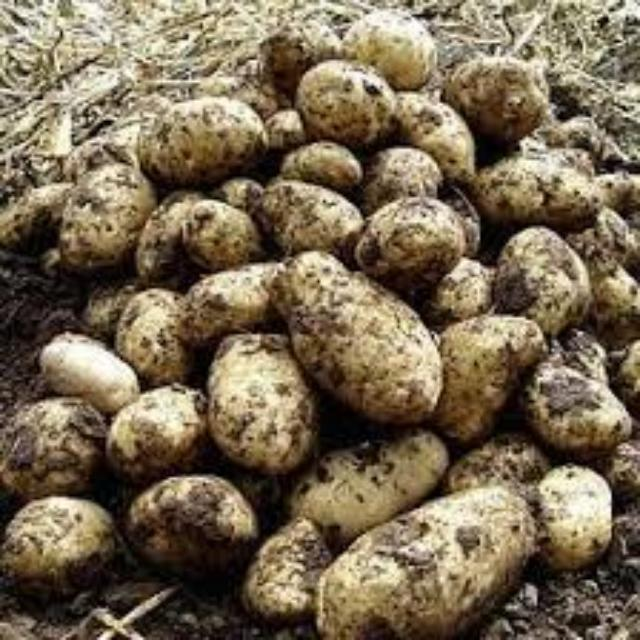Damaged potato: (311, 486, 539, 638), (276, 255, 448, 430), (274, 428, 451, 542), (417, 302, 545, 438), (206, 330, 324, 476), (525, 334, 639, 458), (0, 488, 116, 598), (0, 393, 108, 501), (493, 224, 595, 338), (96, 370, 206, 470), (59, 159, 155, 273), (34, 328, 154, 418), (133, 476, 247, 570), (346, 193, 474, 275), (471, 148, 603, 226), (332, 11, 442, 95), (534, 457, 612, 575), (165, 266, 291, 336), (139, 102, 255, 178), (385, 88, 481, 175), (252, 176, 358, 252), (113, 292, 199, 382), (295, 65, 393, 143), (245, 520, 323, 618), (461, 54, 544, 130), (426, 246, 504, 326), (562, 251, 640, 331), (452, 431, 548, 495), (0, 179, 82, 252), (258, 22, 348, 88), (132, 183, 194, 274), (556, 202, 636, 270), (180, 197, 258, 263), (359, 142, 441, 202), (272, 142, 374, 188)
